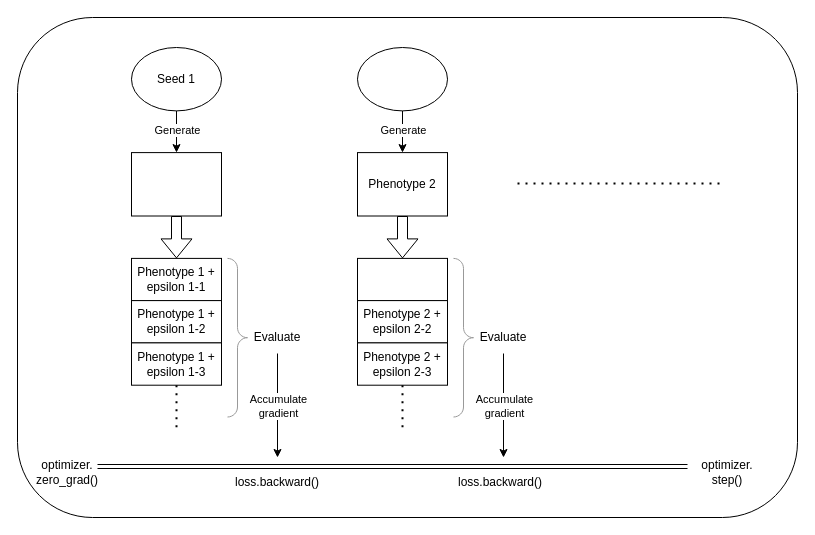
This 815x535 diagram has some shape labels left out. The shapes that lost their labels are listed below. From the top down, each one's box as (x1, y1, x2, y2) in pixels, then its label:
(356, 46, 448, 111): Seed 2
(130, 152, 222, 216): Phenotype 1
(356, 257, 448, 301): Phenotype 2 + epsilon 2-1
